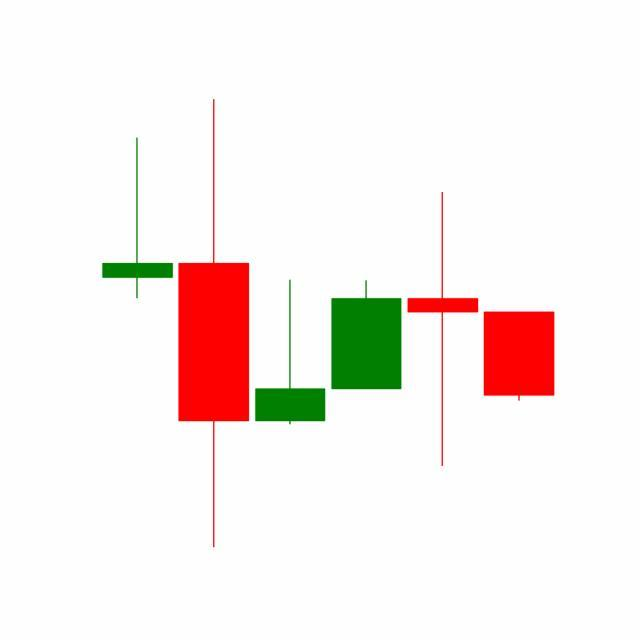Spinning Top: (404, 189, 482, 471)
